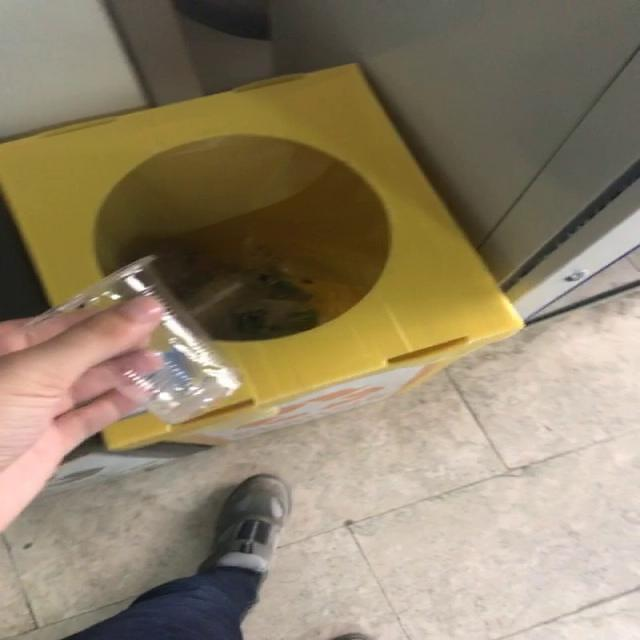Plastic: (31, 255, 241, 424)
